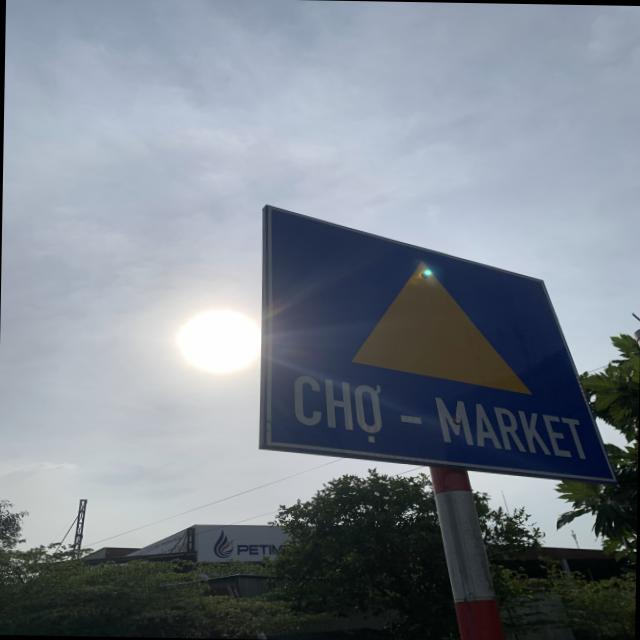Cho_Quay_Xe: (256, 207, 621, 483)
